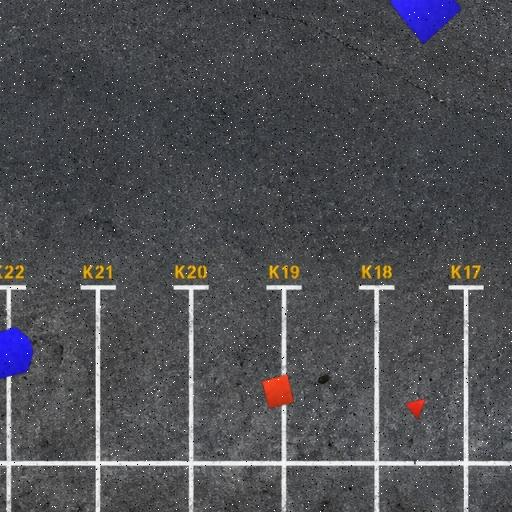BLUE_SQUARE: (388, 0, 462, 45)
RED_SQUARE: (262, 374, 294, 410)
